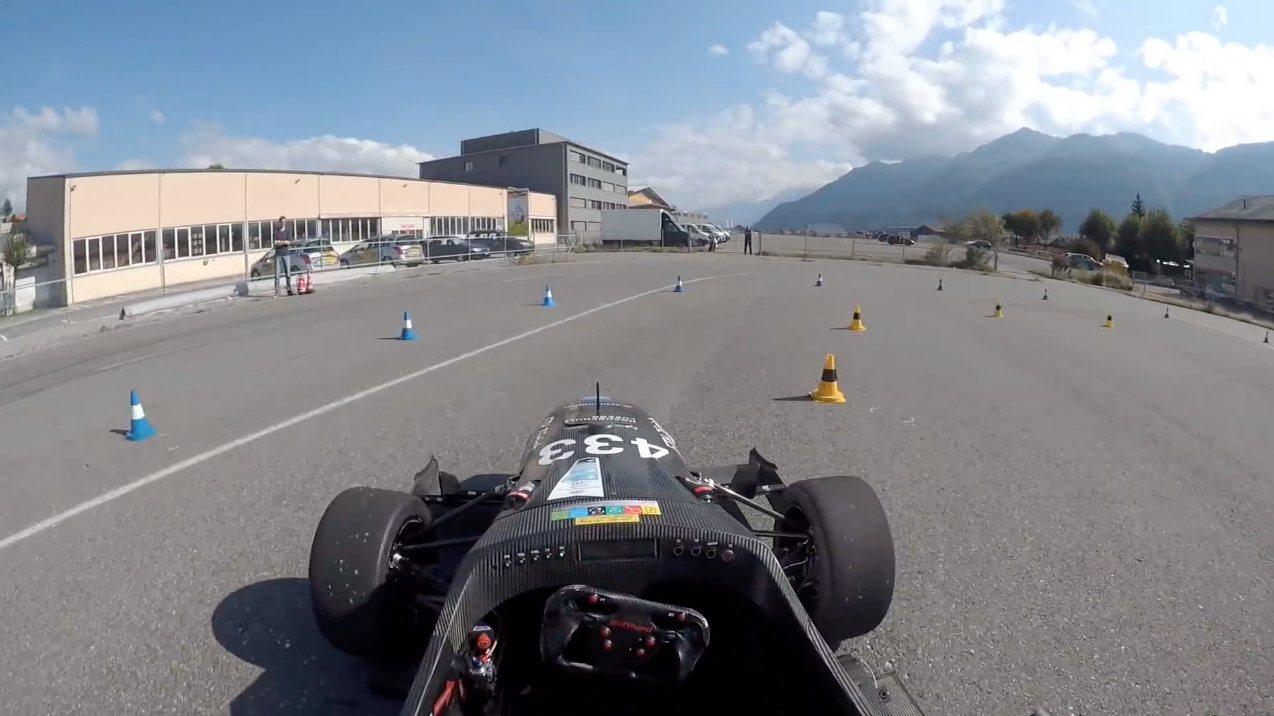lcone: (122, 389, 161, 446), (393, 307, 425, 343), (537, 281, 562, 310)
rcone: (804, 350, 853, 407), (844, 301, 872, 336)
